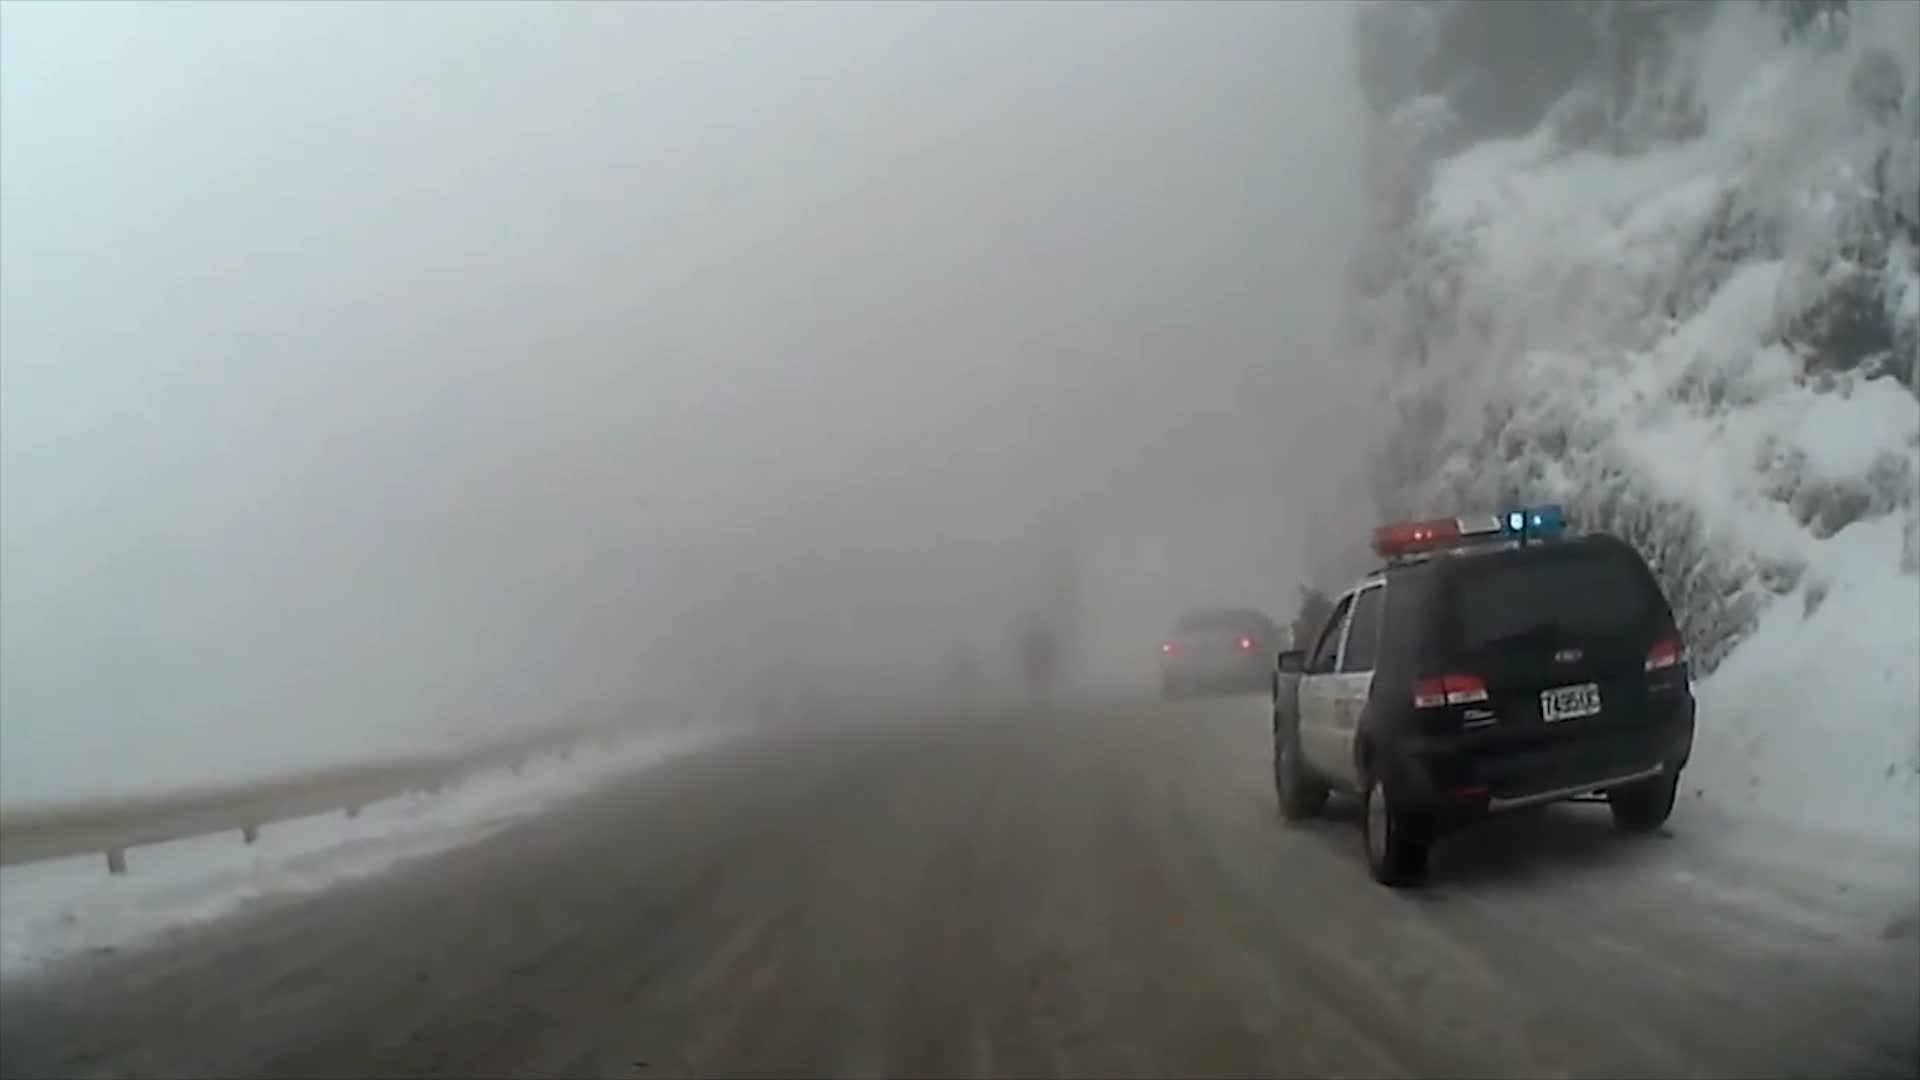vehicle: (1269, 504, 1697, 886), (1158, 608, 1288, 702)
